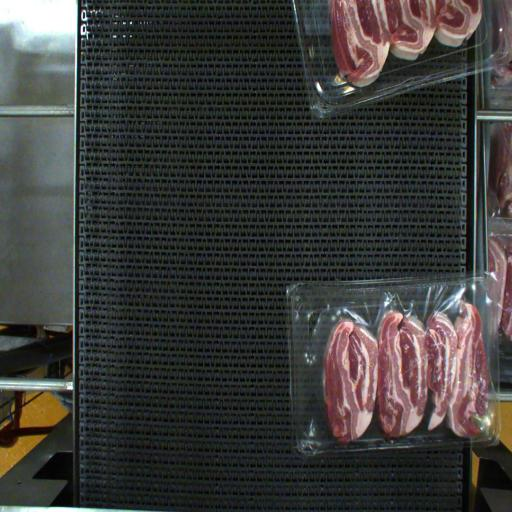unsealed: (306, 276, 482, 380)
